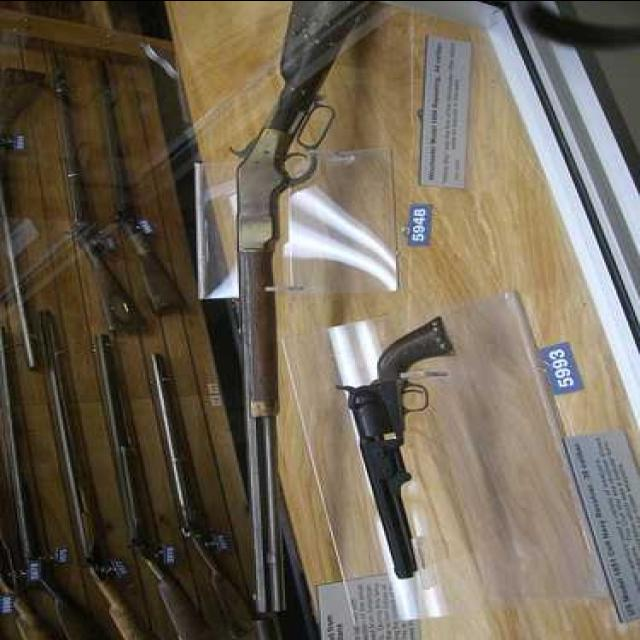heavyweapon: (221, 2, 383, 626)
